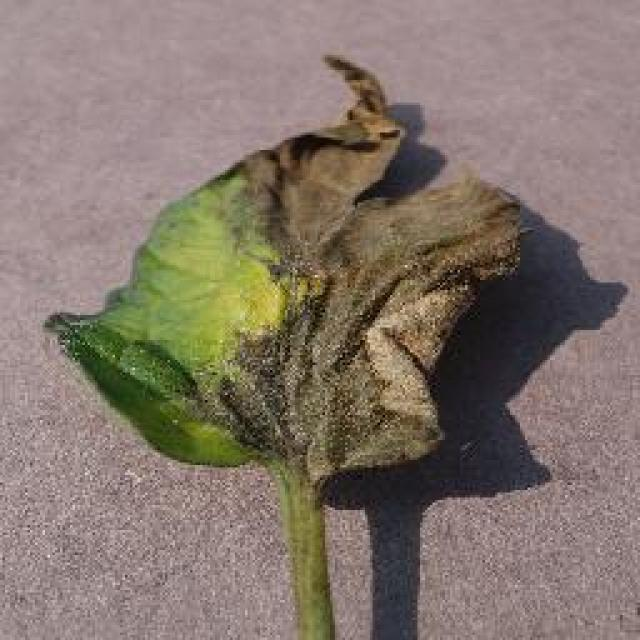Tomato___Late_blight: (39, 48, 540, 638)
